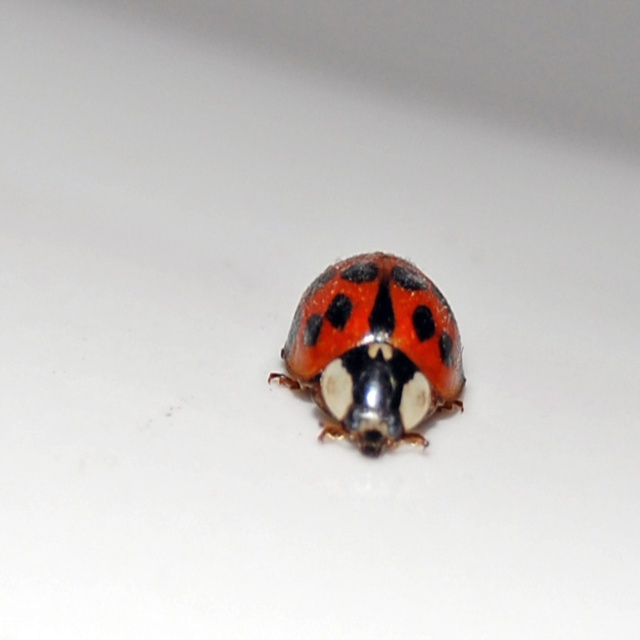Ladybug: (264, 252, 467, 458)
